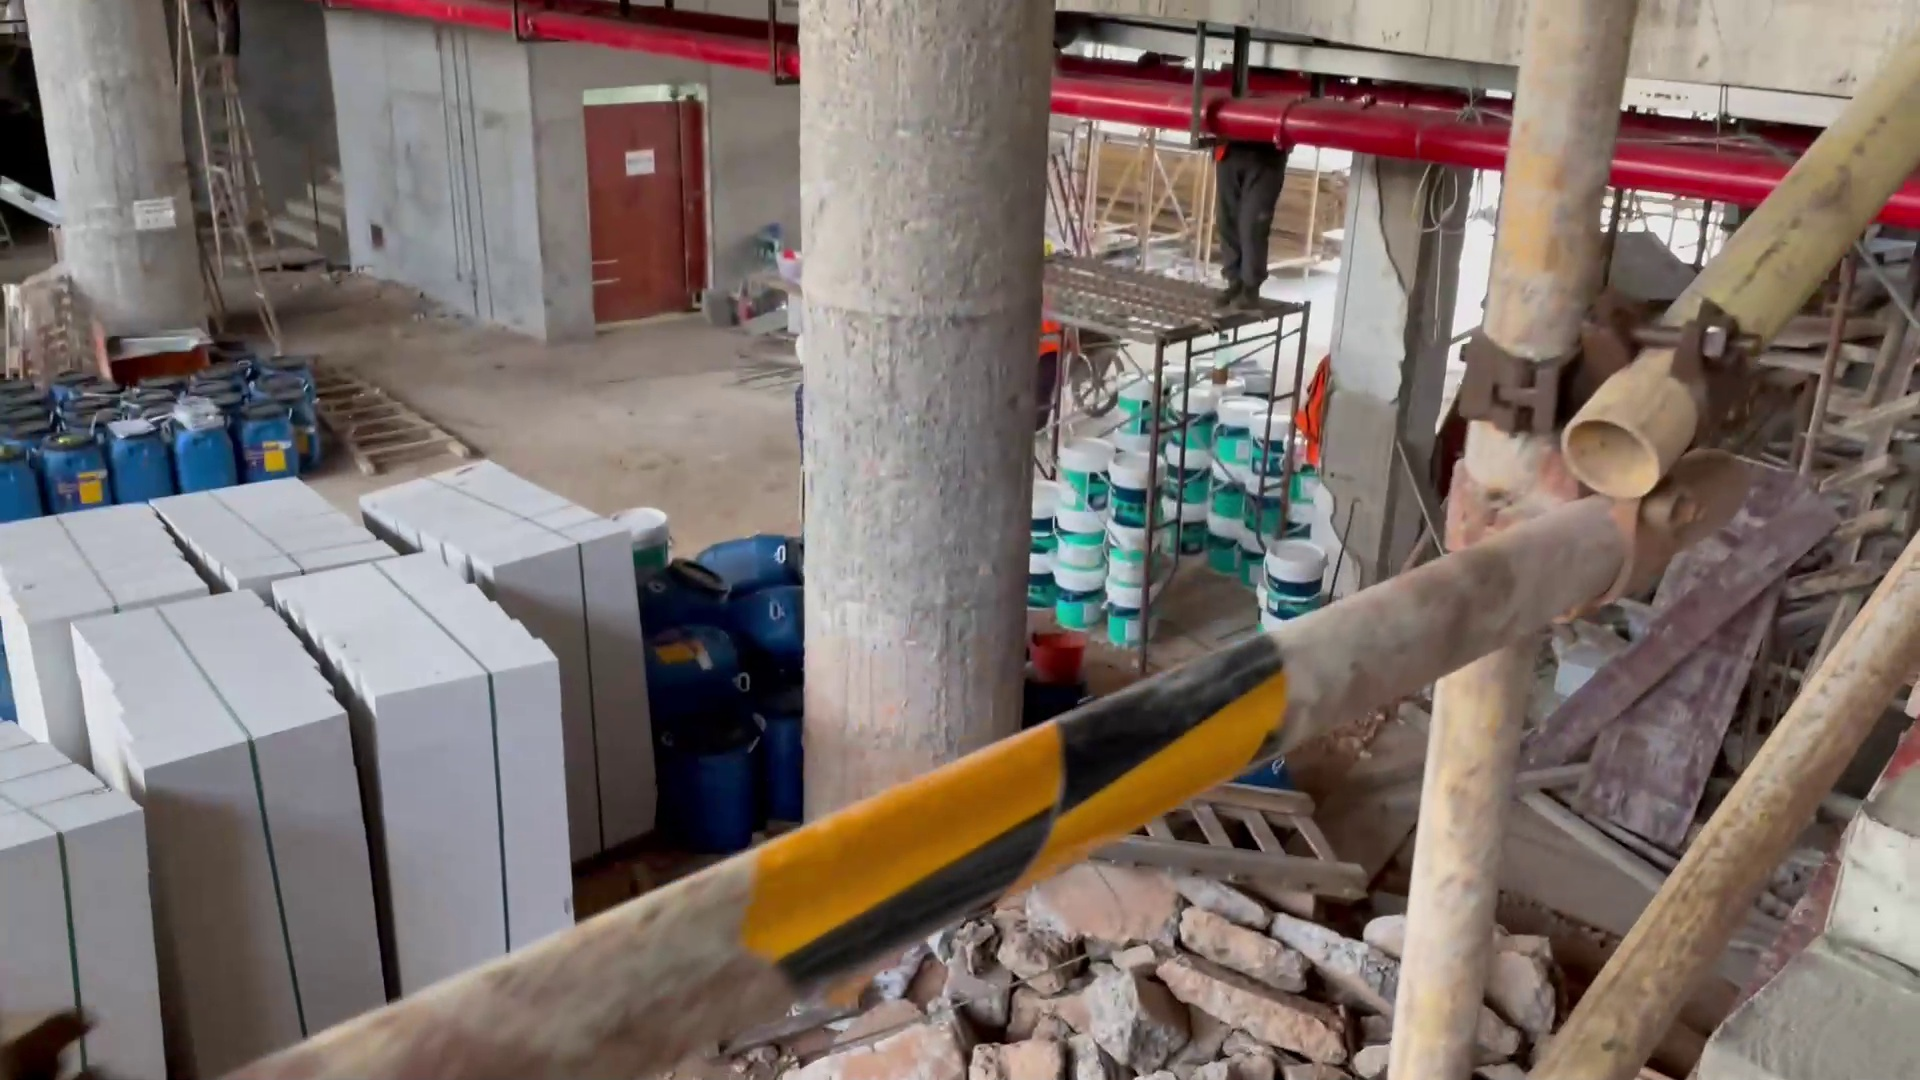person: (1196, 122, 1275, 305)
vest: (1299, 358, 1333, 466), (1032, 276, 1071, 360)
